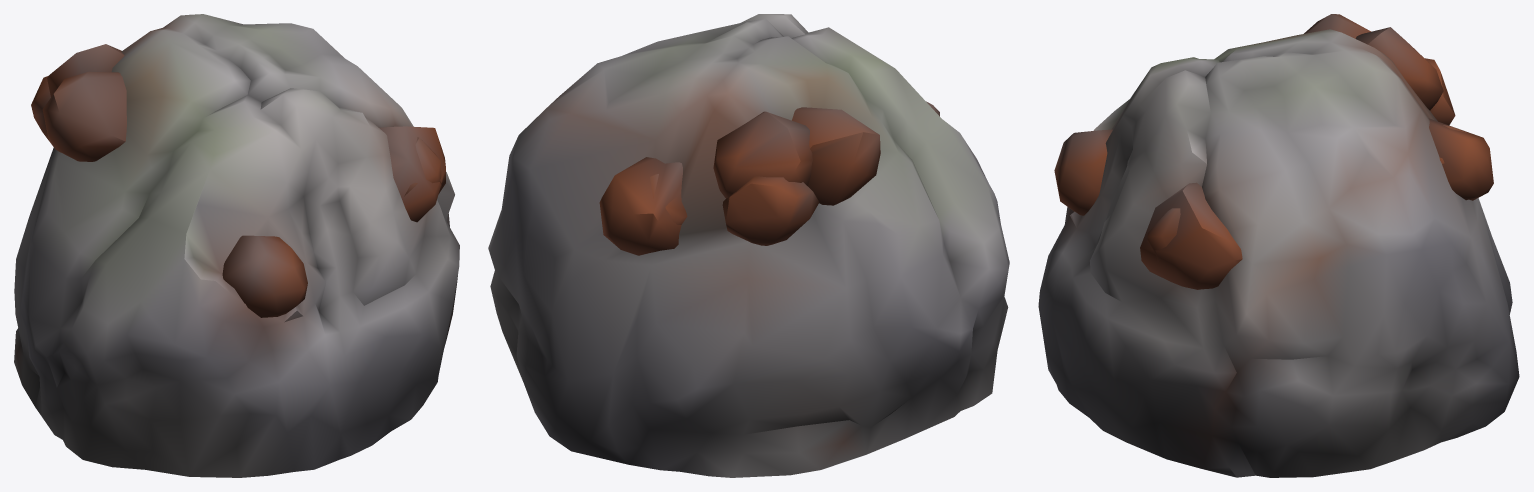
File: cave-oreIron-v3.glb
3 renders of one model, left to right at view 1: azimuth 30°, elevation 25°; view 2: azimuth 150°, elevation 25°; view 3: azimuth 270°, elevation 25°, orthographic. The views are drawn at different scales.
Parts seen in each view (by area): view 1: 0_vein; view 2: 0_vein; view 3: 0_vein.
Boxes of the visible parts, box(x1,y1,x2,y2) form: 0_vein: box(14, 14, 459, 477); 0_vein: box(488, 14, 1009, 477); 0_vein: box(1038, 14, 1519, 477).
Size of the model in its own units: 1.12 by 0.864 by 1.12.
